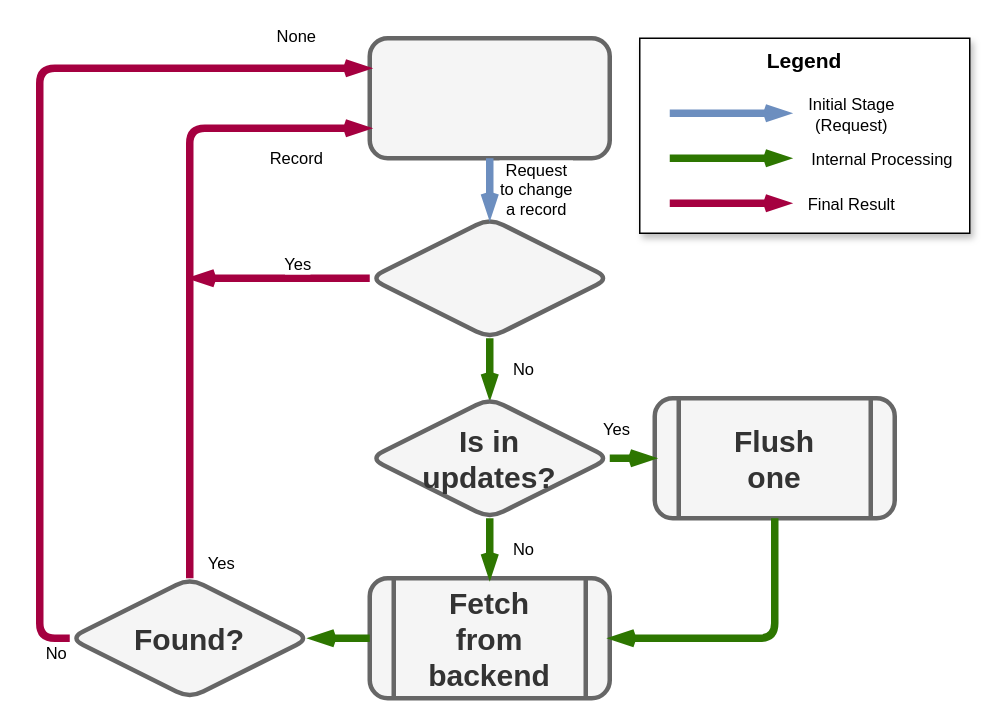
The diagram is 1005 pixels wide and 726 high, and some of its shapes have lost their labels. Each missing label, with the centre of its shape:
Cached?: the point at 489,277
User Code: the point at 489,97
